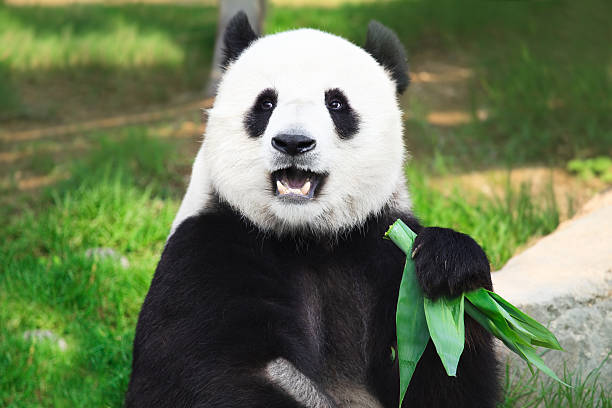panda: (194, 8, 437, 248)
